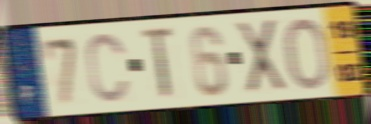6: (189, 22, 229, 99)
7: (39, 34, 80, 107)
C: (84, 30, 132, 105)
O: (283, 15, 332, 93)
T: (141, 24, 176, 104)
X: (233, 16, 290, 97)
